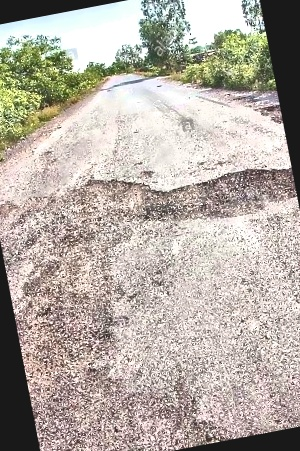pothole: (163, 159, 298, 231), (74, 164, 160, 238)
